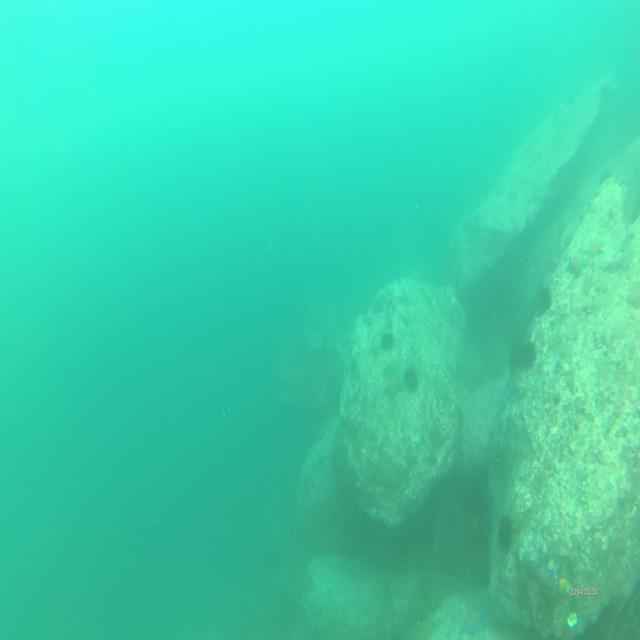echinus: (496, 510, 516, 551), (402, 362, 420, 394), (521, 336, 537, 369), (537, 284, 552, 312), (511, 337, 523, 372), (382, 330, 393, 350)
starfish: (459, 605, 487, 636), (532, 560, 555, 596), (566, 249, 588, 281), (582, 233, 603, 258), (608, 248, 624, 274)
